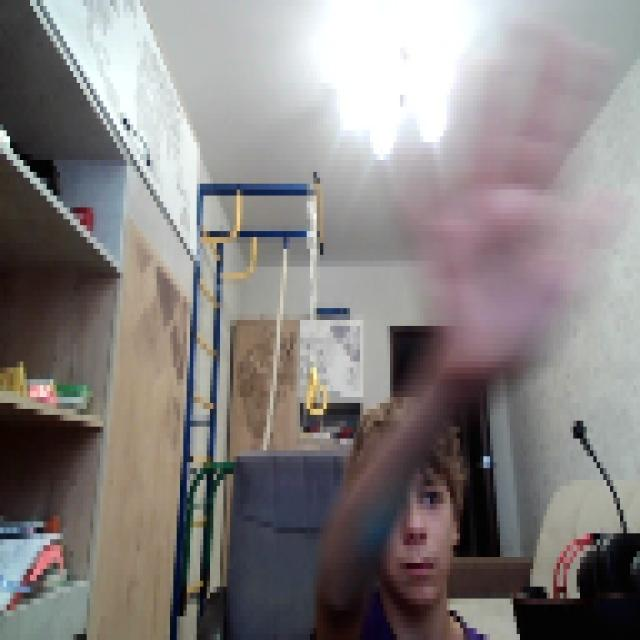hand: (387, 12, 620, 367)
